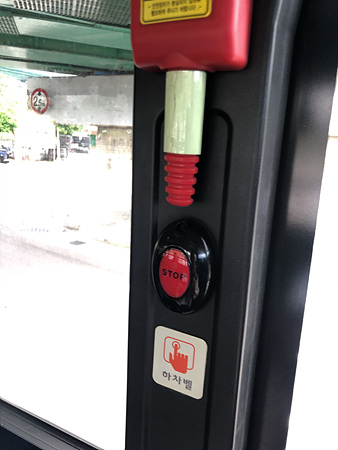bell: (155, 217, 217, 314)
